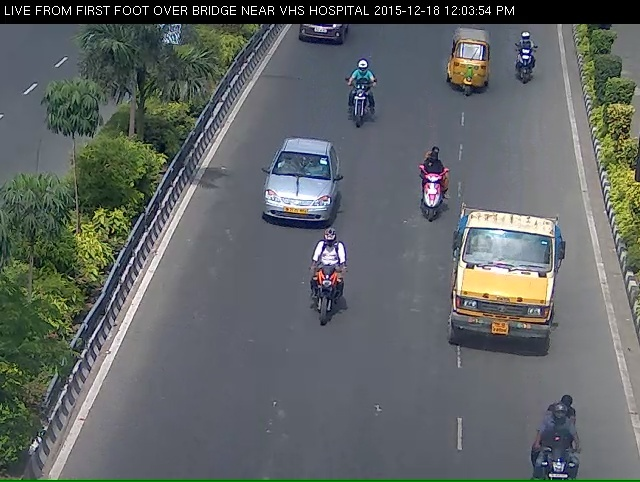Auto: (441, 27, 494, 98)
Bus: (453, 222, 552, 374)
Car: (265, 146, 336, 235), (289, 22, 349, 51)
Person: (298, 250, 351, 349), (421, 154, 451, 227), (338, 71, 373, 129), (515, 40, 540, 85)
